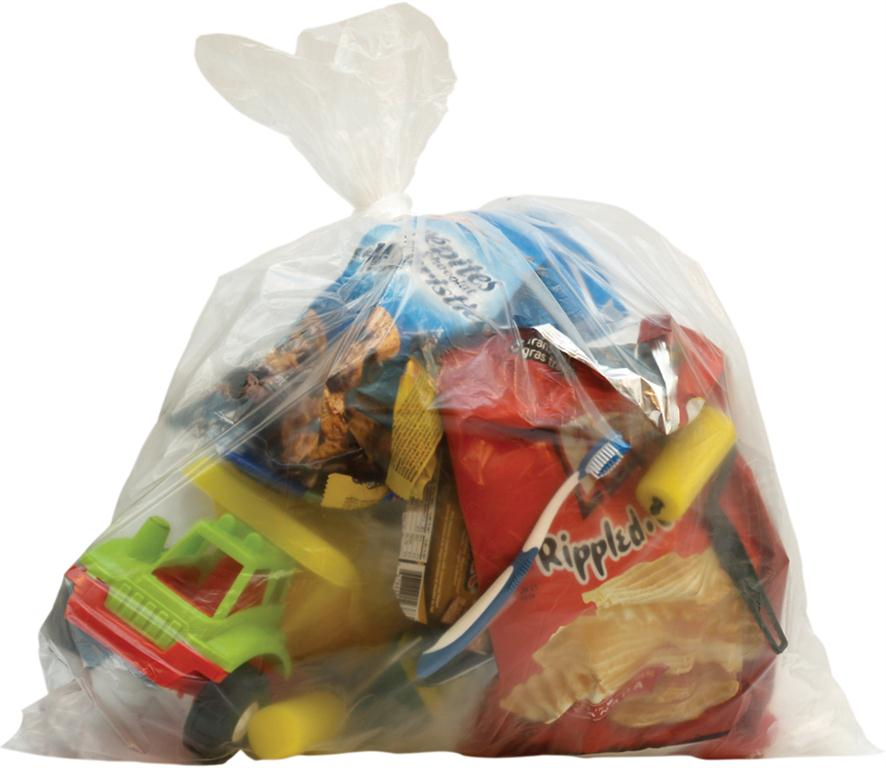plastic_bagwdw: (6, 7, 882, 762)
